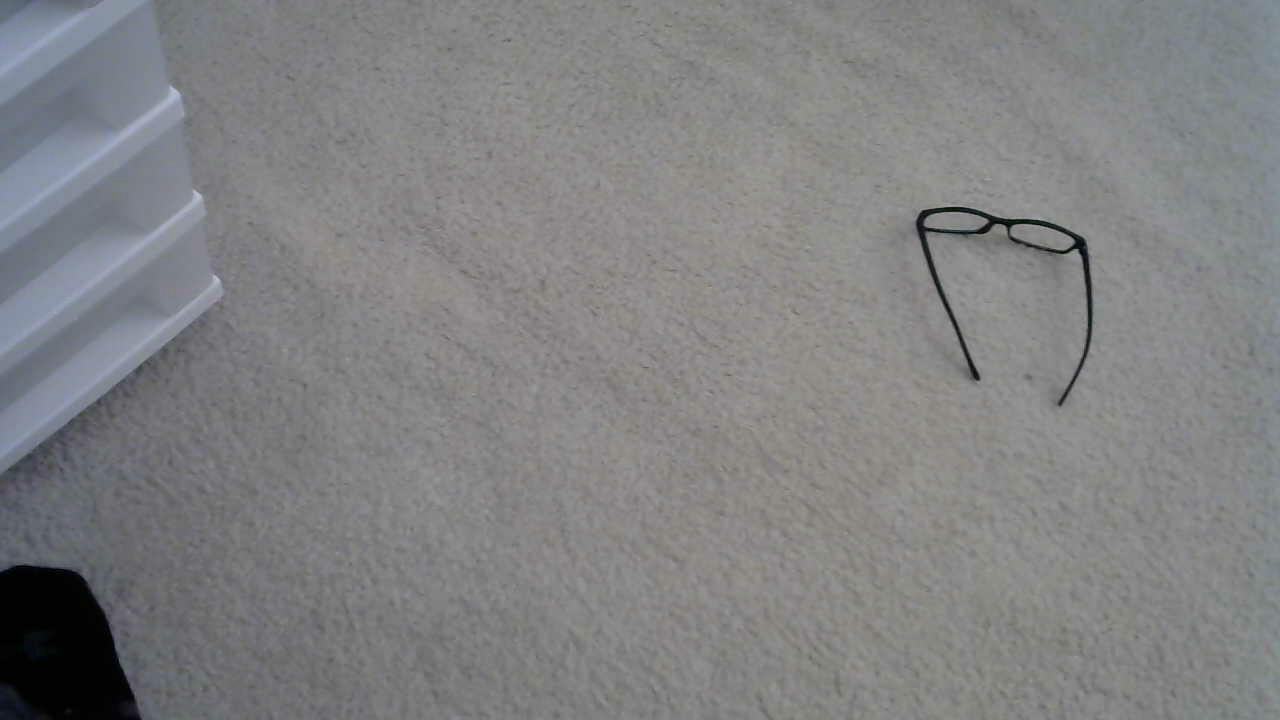Glasses: (874, 198, 1107, 442)
